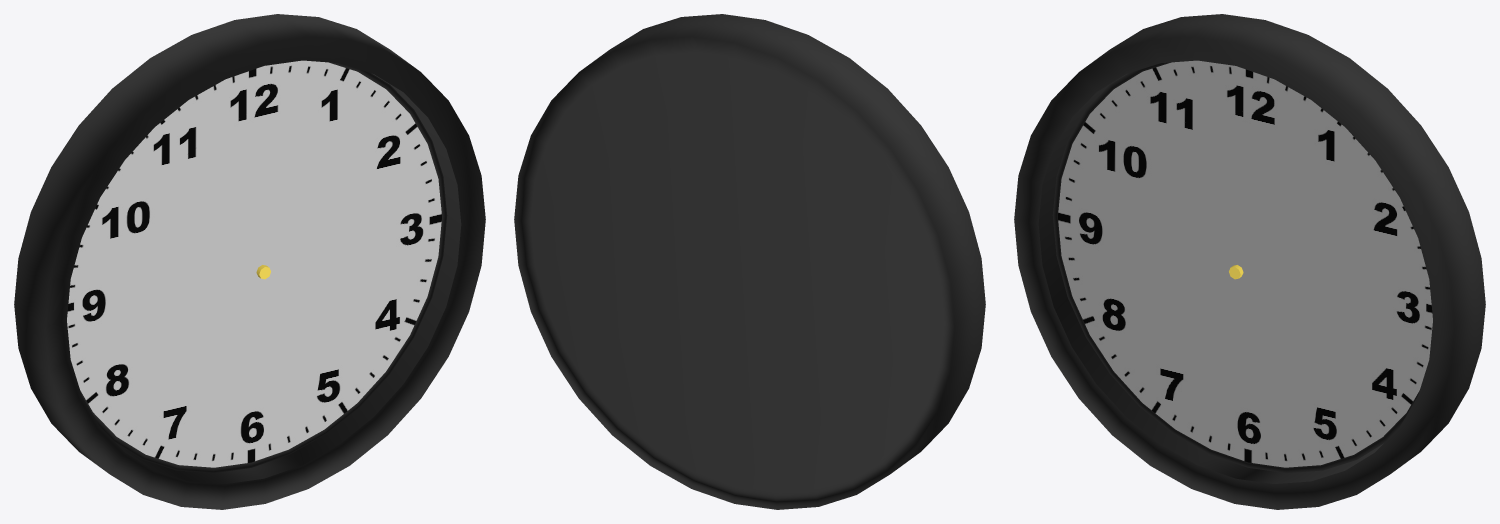
3 views of the same model, side by side, from view 1: azimuth 30°, elevation 25°; view 2: azimuth 150°, elevation 25°; view 3: azimuth 330°, elevation 25° (orthographic).
Visible parts, largest first — view 1: Clock; view 2: Clock; view 3: Clock.
Part boxes in pixels (left/top/right/bottom): Clock: left=14, top=14, right=485, bottom=509; Clock: left=514, top=14, right=985, bottom=509; Clock: left=1014, top=14, right=1485, bottom=509.
Size of the model in its own units: 0.9071 by 0.9071 by 0.1107.
Materials: 3 (1 with a texture image).
